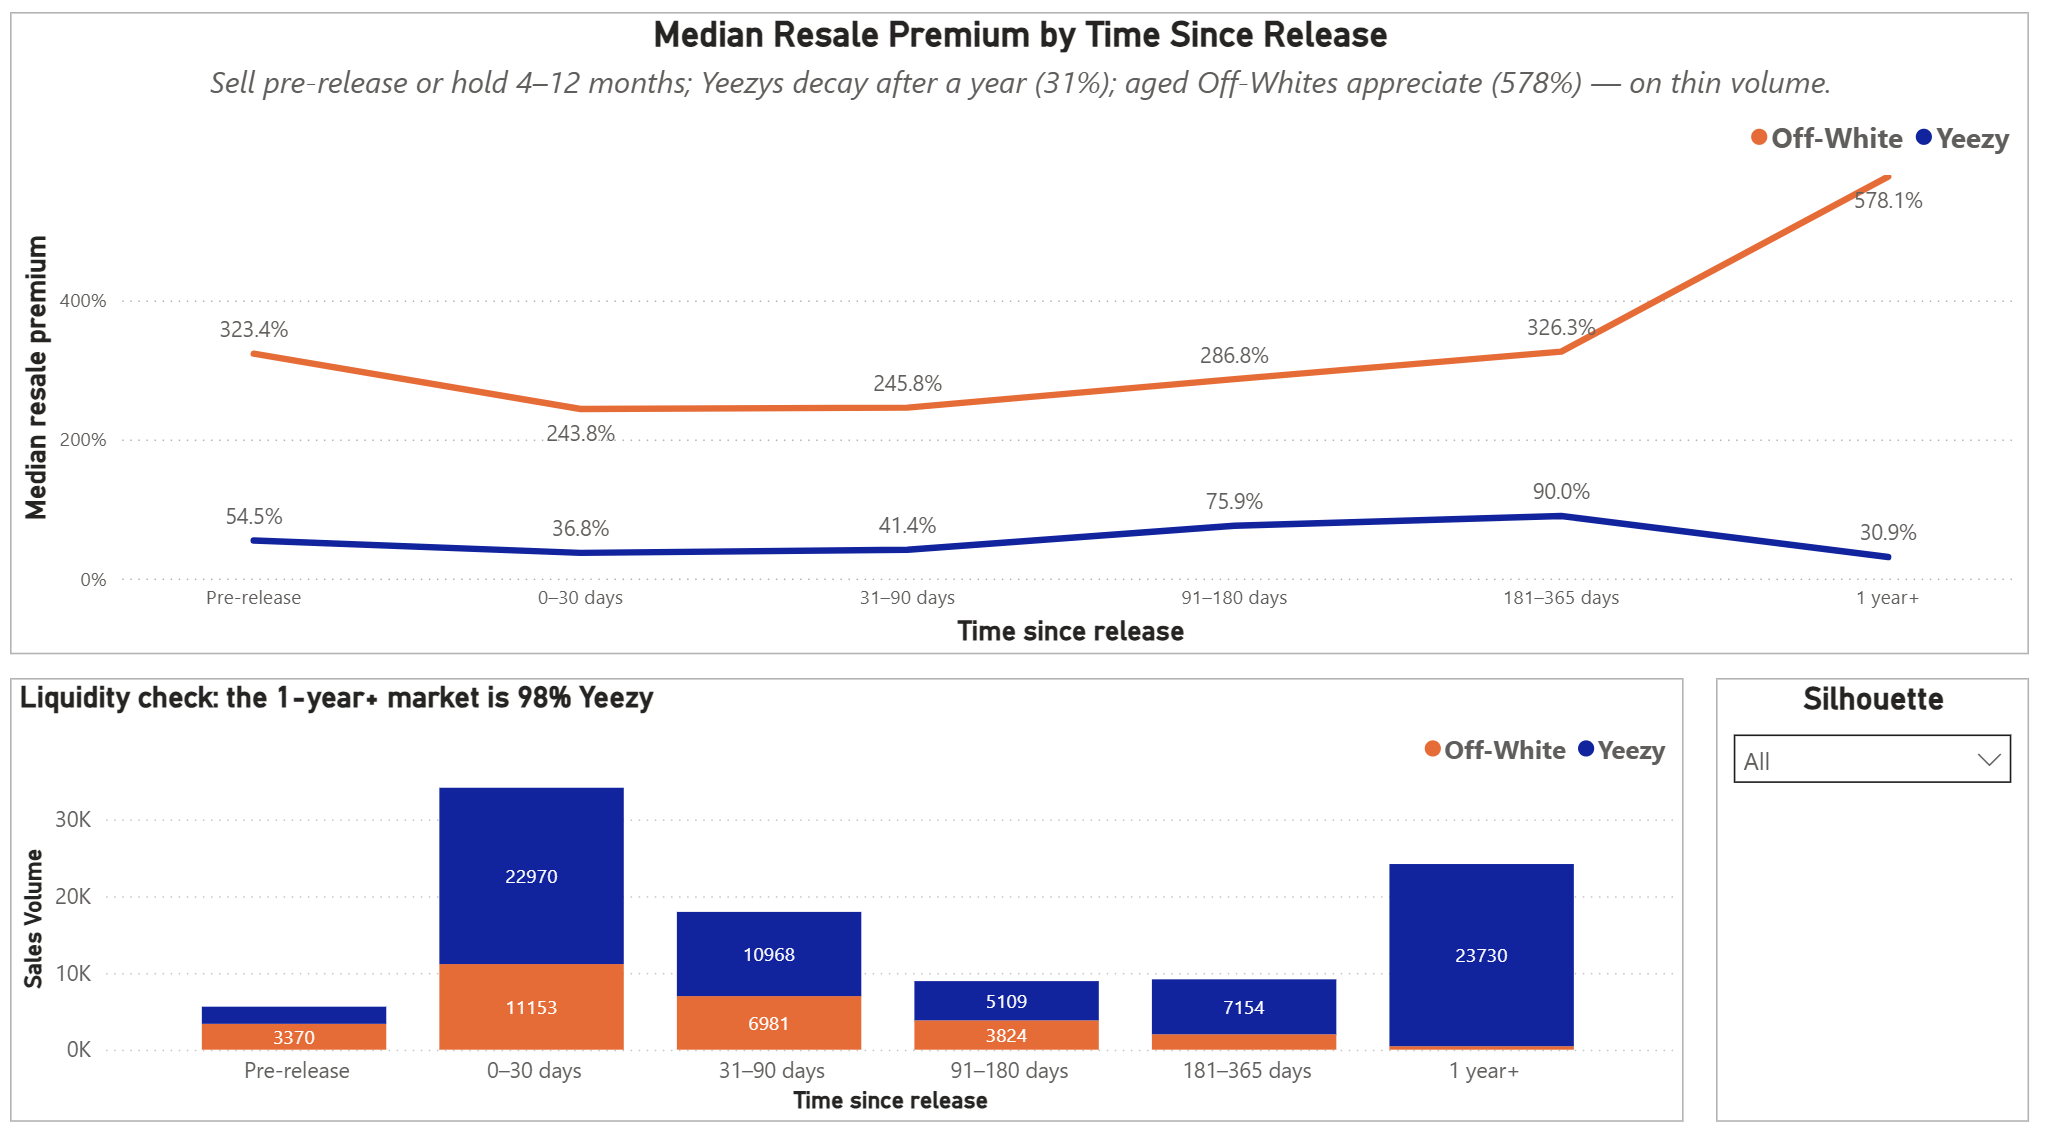

Layout of this report page (visuals, bound fields, positions):
{"tool":"powerbi","page":{"name":"Exit Timing","canvas":[1280,720],"ordinal":1},"visuals":[{"type":"lineChart","title":"Median Resale Premium by Time Since Release","fields":{"Y":["fact_sales.Median Resale Premium %"],"Series":["dim_sneaker.brand"],"Category":["fact_sales.Release Window"]},"box":[12.9,13.6,1250.8,398.3],"z":0},{"type":"columnChart","title":"Liquidity check: the 1-year+ market is 98% Yeezy","fields":{"Y":["fact_sales.Sales Volume"],"Series":["dim_sneaker.brand"],"Category":["fact_sales.Release Window"]},"box":[12.9,426.2,1037.3,275.3],"z":1000},{"type":"slicer","title":"Silhouette","fields":{"Values":["dim_sneaker.silhouette"]},"box":[1070,426.2,193.7,275.3],"z":2000}]}

Visuals, with their boxes in screenshot pixels (x1, y1, x2, y2), scaled from the page's 1280x720 canvas onto the 2053x1142 screenshot:
"Median Resale Premium by Time Since Release" lineChart: <bbox>21, 22, 2027, 653</bbox>
"Liquidity check: the 1-year+ market is 98% Yeezy" columnChart: <bbox>21, 676, 1684, 1113</bbox>
"Silhouette" slicer: <bbox>1716, 676, 2027, 1113</bbox>
